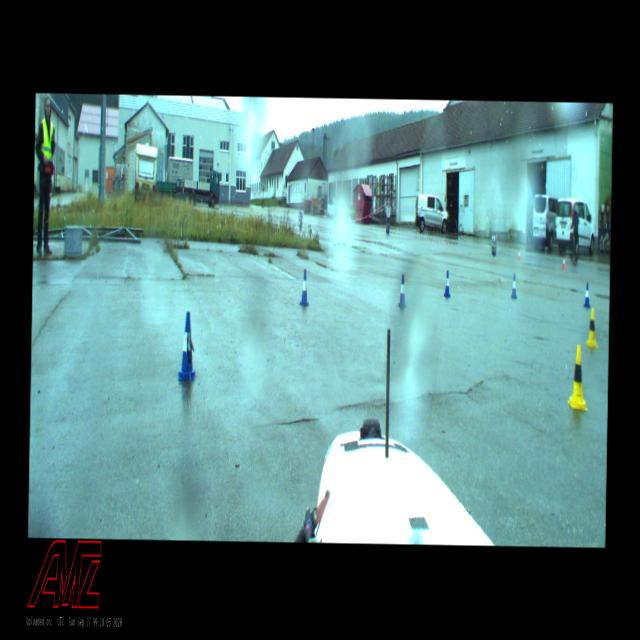blue_cone: (178, 311, 196, 379), (300, 270, 308, 306), (398, 274, 406, 307), (444, 270, 450, 296), (584, 282, 590, 306), (511, 273, 516, 298)
orange_cone: (562, 255, 565, 268), (517, 248, 520, 260)
yellow_cone: (568, 344, 588, 410), (586, 308, 599, 348)
